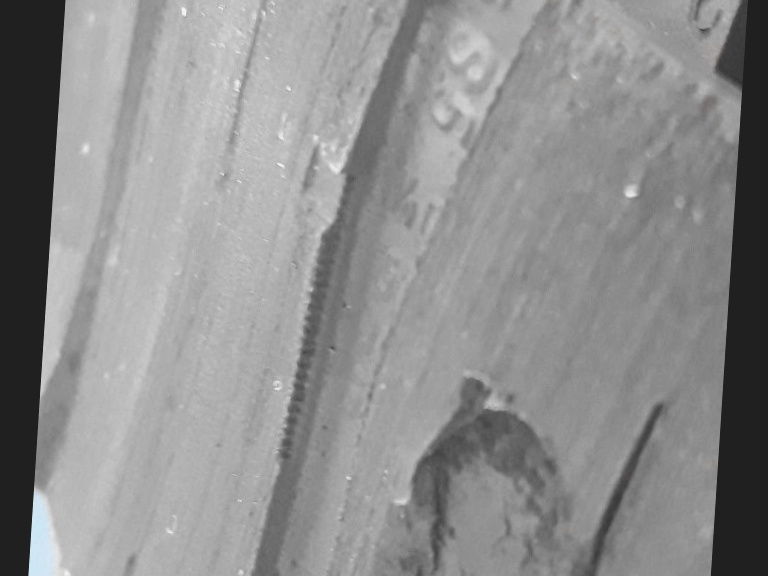temoin:0: (275, 132, 370, 256)
